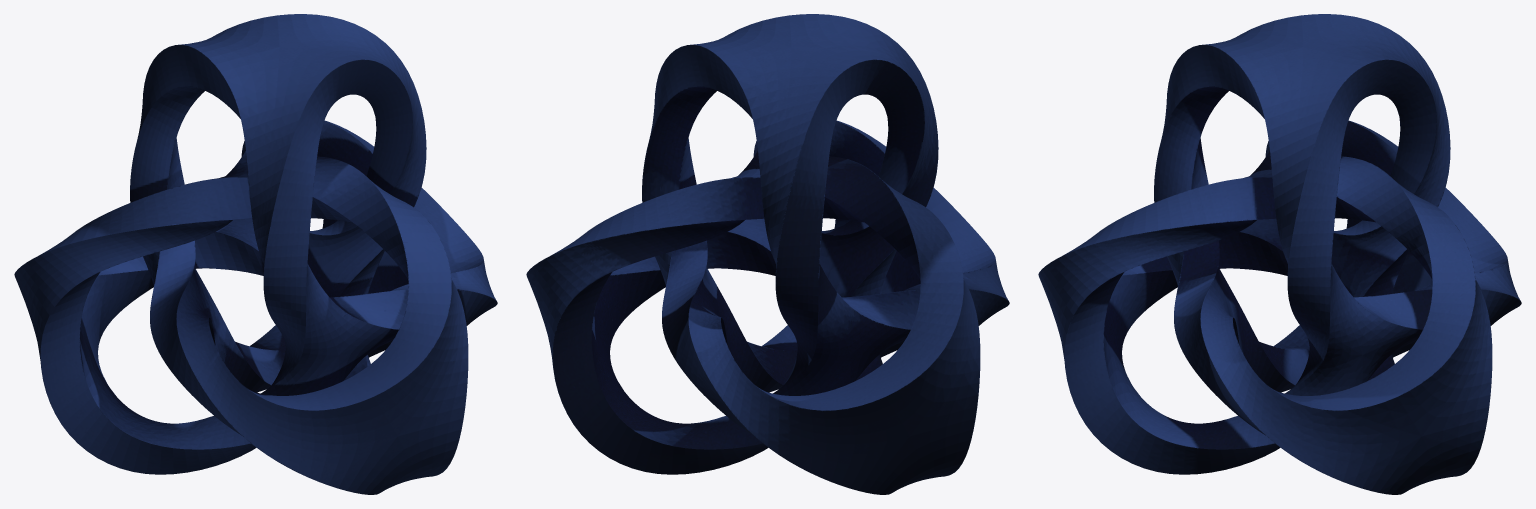
The model's file is abstract_object02.glb.
3 renders of one model, left to right at view 1: azimuth 30°, elevation 25°; view 2: azimuth 150°, elevation 25°; view 3: azimuth 270°, elevation 25°, orthographic.
Parts seen in each view (by area): view 1: abstract_object(low_poly); view 2: abstract_object(low_poly); view 3: abstract_object(low_poly).
Part boxes in pixels (x1,y1,x2,y2): abstract_object(low_poly): [14, 14, 497, 494]; abstract_object(low_poly): [526, 14, 1009, 494]; abstract_object(low_poly): [1038, 14, 1521, 494].
Bounding box in the file's own units: 0.1953 × 0.1731 × 0.1915.
Materials: 1 (1 with a texture image).
